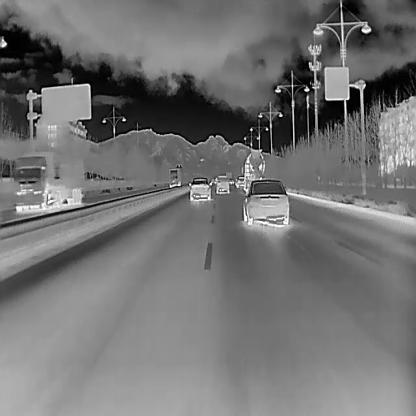car: (11, 149, 85, 213), (242, 178, 289, 224), (242, 147, 265, 193), (187, 176, 212, 201), (167, 166, 182, 187), (214, 176, 229, 194), (234, 175, 244, 188)
